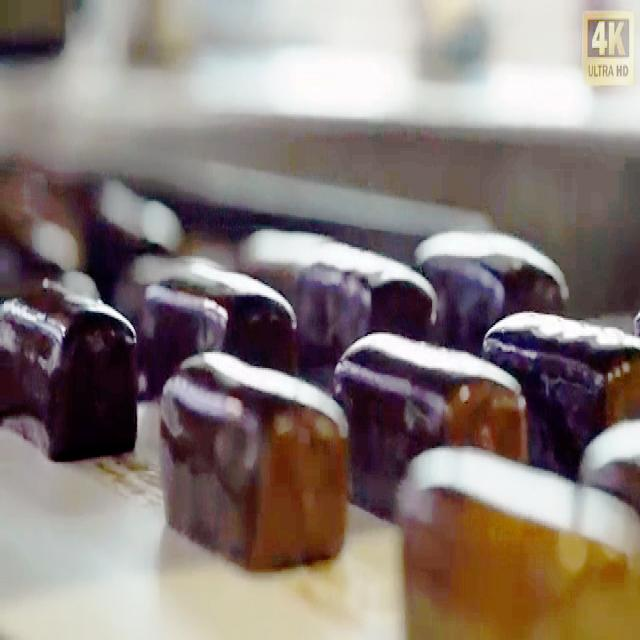Choco: (394, 441, 637, 635), (157, 345, 350, 572), (333, 327, 528, 519), (237, 220, 437, 356), (482, 299, 639, 467), (1, 272, 139, 462), (142, 263, 303, 400), (413, 225, 573, 358)
